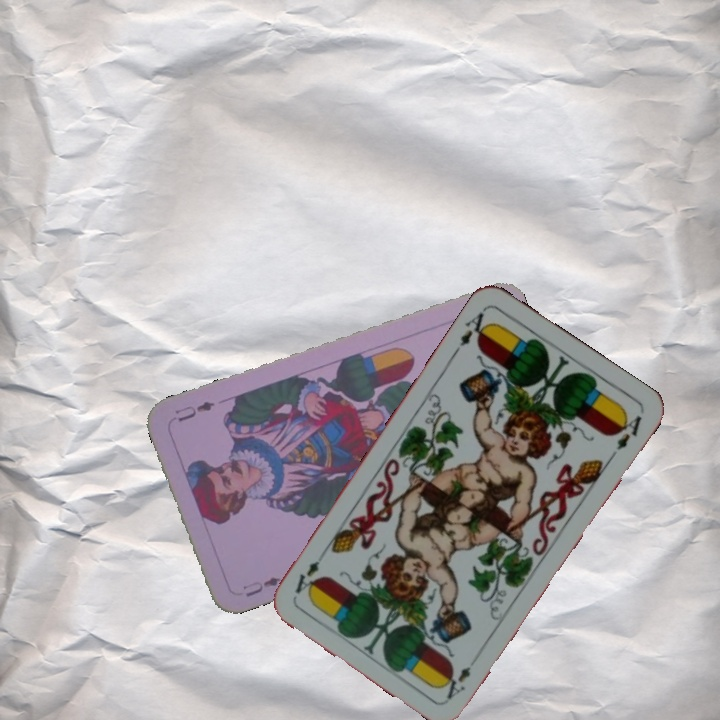EA: (449, 305, 493, 358), (441, 662, 474, 703)
EU: (238, 572, 283, 600)
